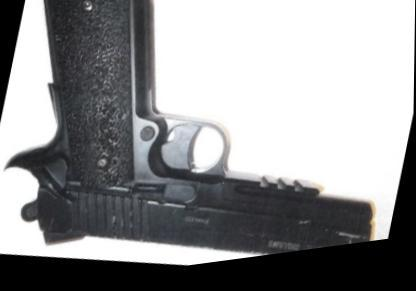pistol: (0, 0, 415, 289)
